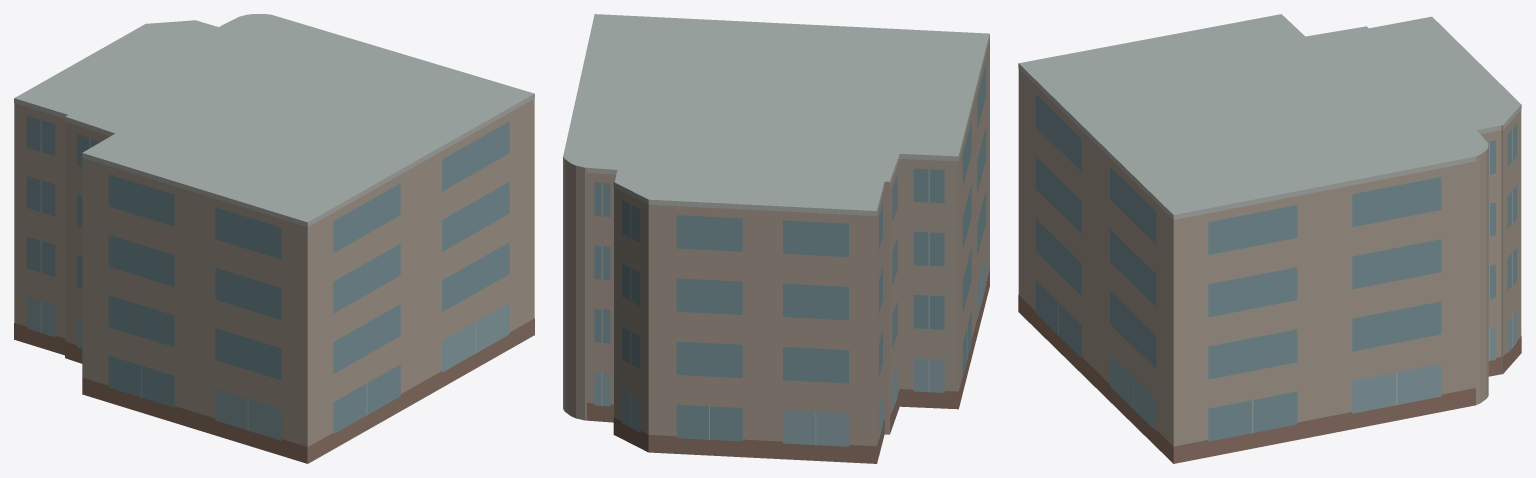
File: survey-upis-32582594.glb
3 views of the same model, side by side, from view 1: azimuth 30°, elevation 25°; view 2: azimuth 150°, elevation 25°; view 3: azimuth 270°, elevation 25° (orthographic). The views are drawn at different scales.
Visible parts, largest first — view 1: survey-upis-32582594.tmp; view 2: survey-upis-32582594.tmp; view 3: survey-upis-32582594.tmp.
Part boxes in pixels (left/top/right/bottom): survey-upis-32582594.tmp: left=14, top=14, right=534, bottom=463; survey-upis-32582594.tmp: left=563, top=14, right=989, bottom=463; survey-upis-32582594.tmp: left=1018, top=14, right=1521, bottom=463.
Size of the model in its own units: 21.34 by 12.3 by 22.54.
